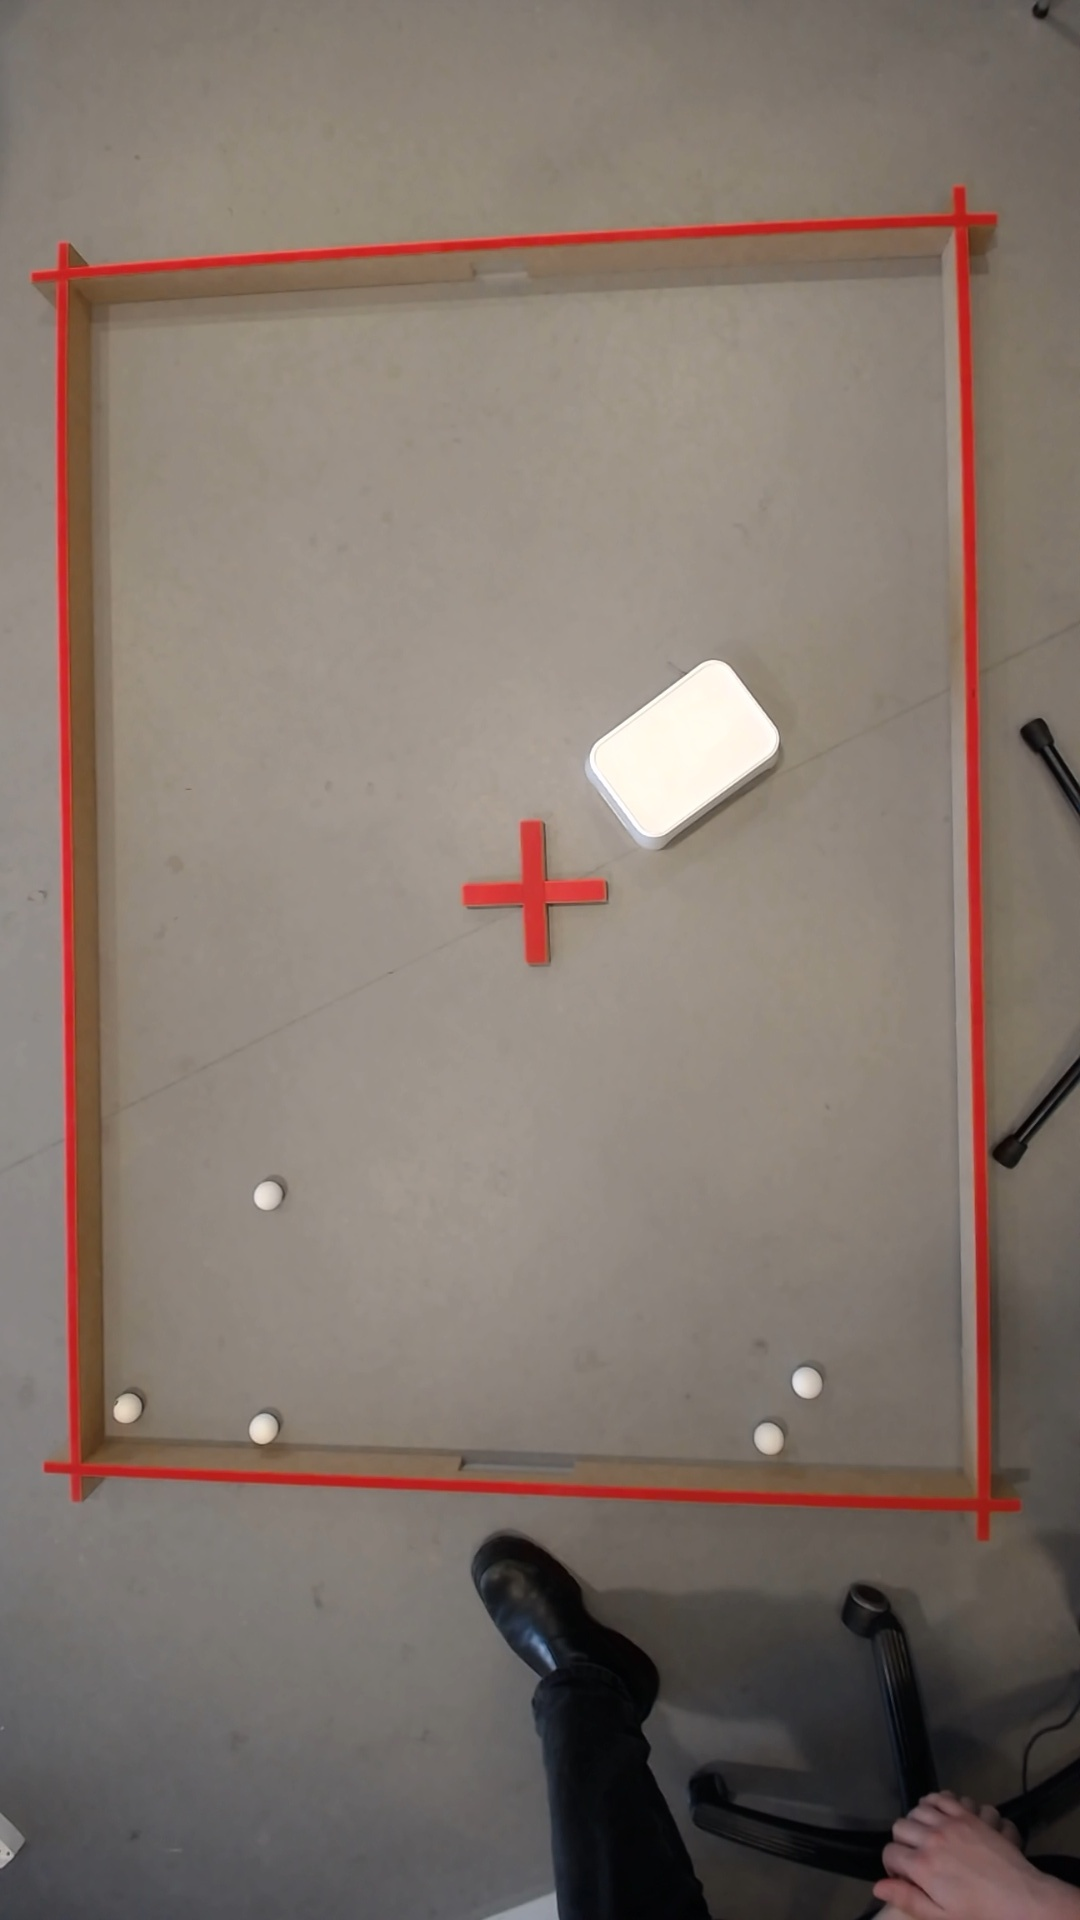balls: (572, 649, 787, 852), (785, 1366, 819, 1399), (249, 1179, 280, 1211), (750, 1423, 781, 1453), (249, 1415, 272, 1443)
car: (108, 1394, 137, 1424)
